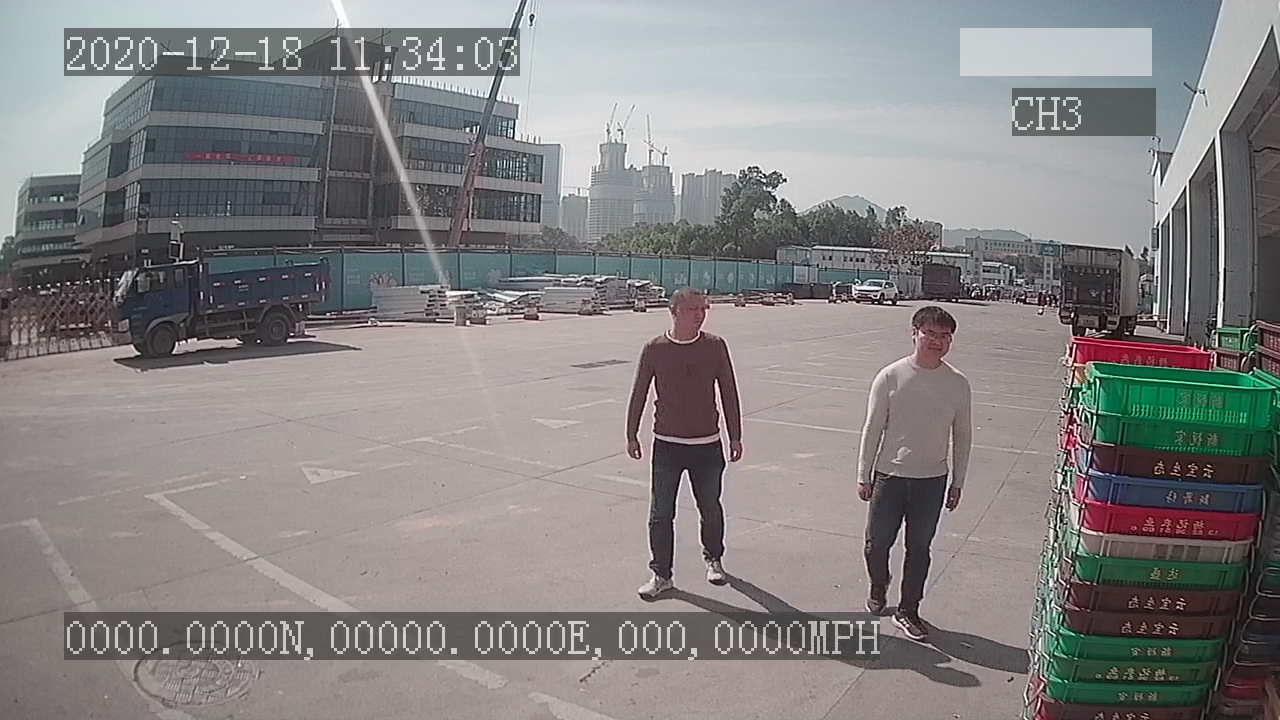person: (625, 284, 747, 600)
